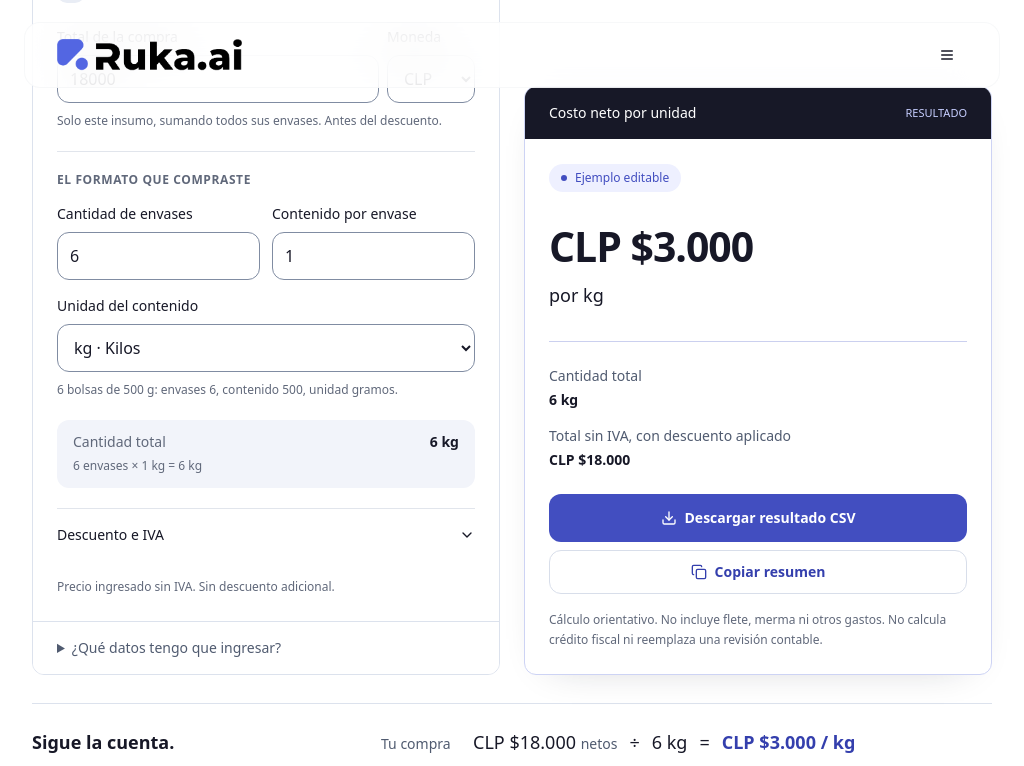
tool experience upgrade › recovers from failed CSV download without losing values
The image size is (1024, 766).
(page scrolled)
What coordinates should you click on to do the following:
click the button "Descargar resultado CSV"
I would click on:
 (758, 518)
Its box is [549,494,967,542].
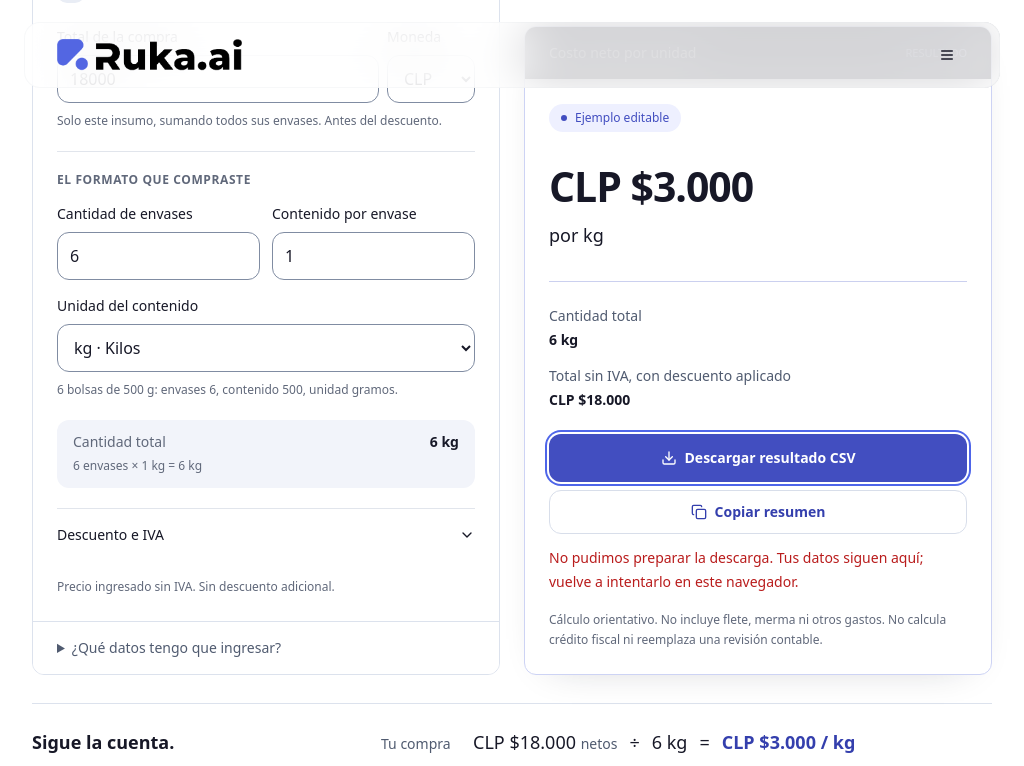
Check: the field labelled "Total de la compra" holds "18000", box [57,55,379,103]
Check: the message shows "Tus datos siguen aquí", box [549,548,924,591]
